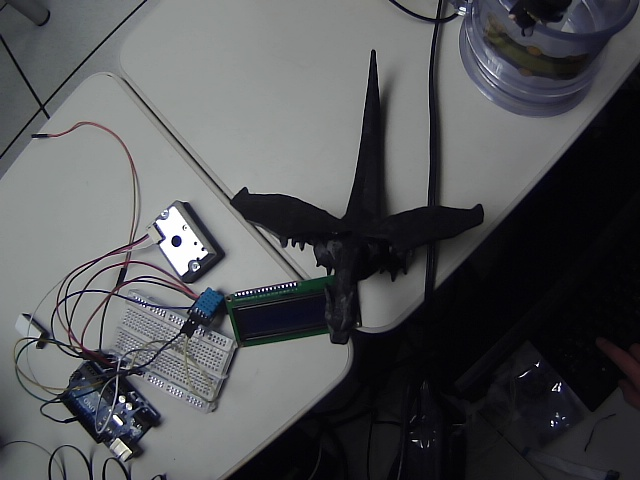charizard: (221, 47, 497, 351)
